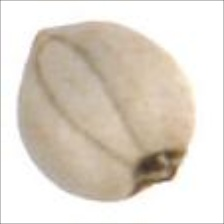L5: (35, 35, 142, 166), (126, 145, 190, 199)
L6: (16, 20, 199, 205)
